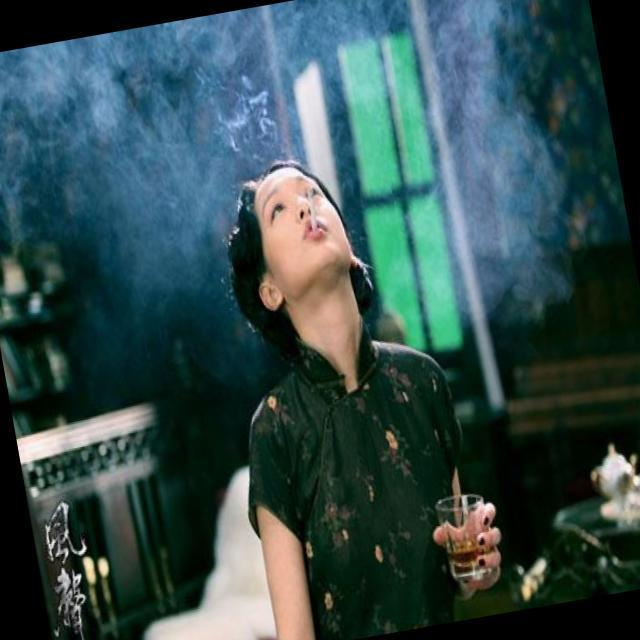cigarette: (296, 171, 332, 250)
